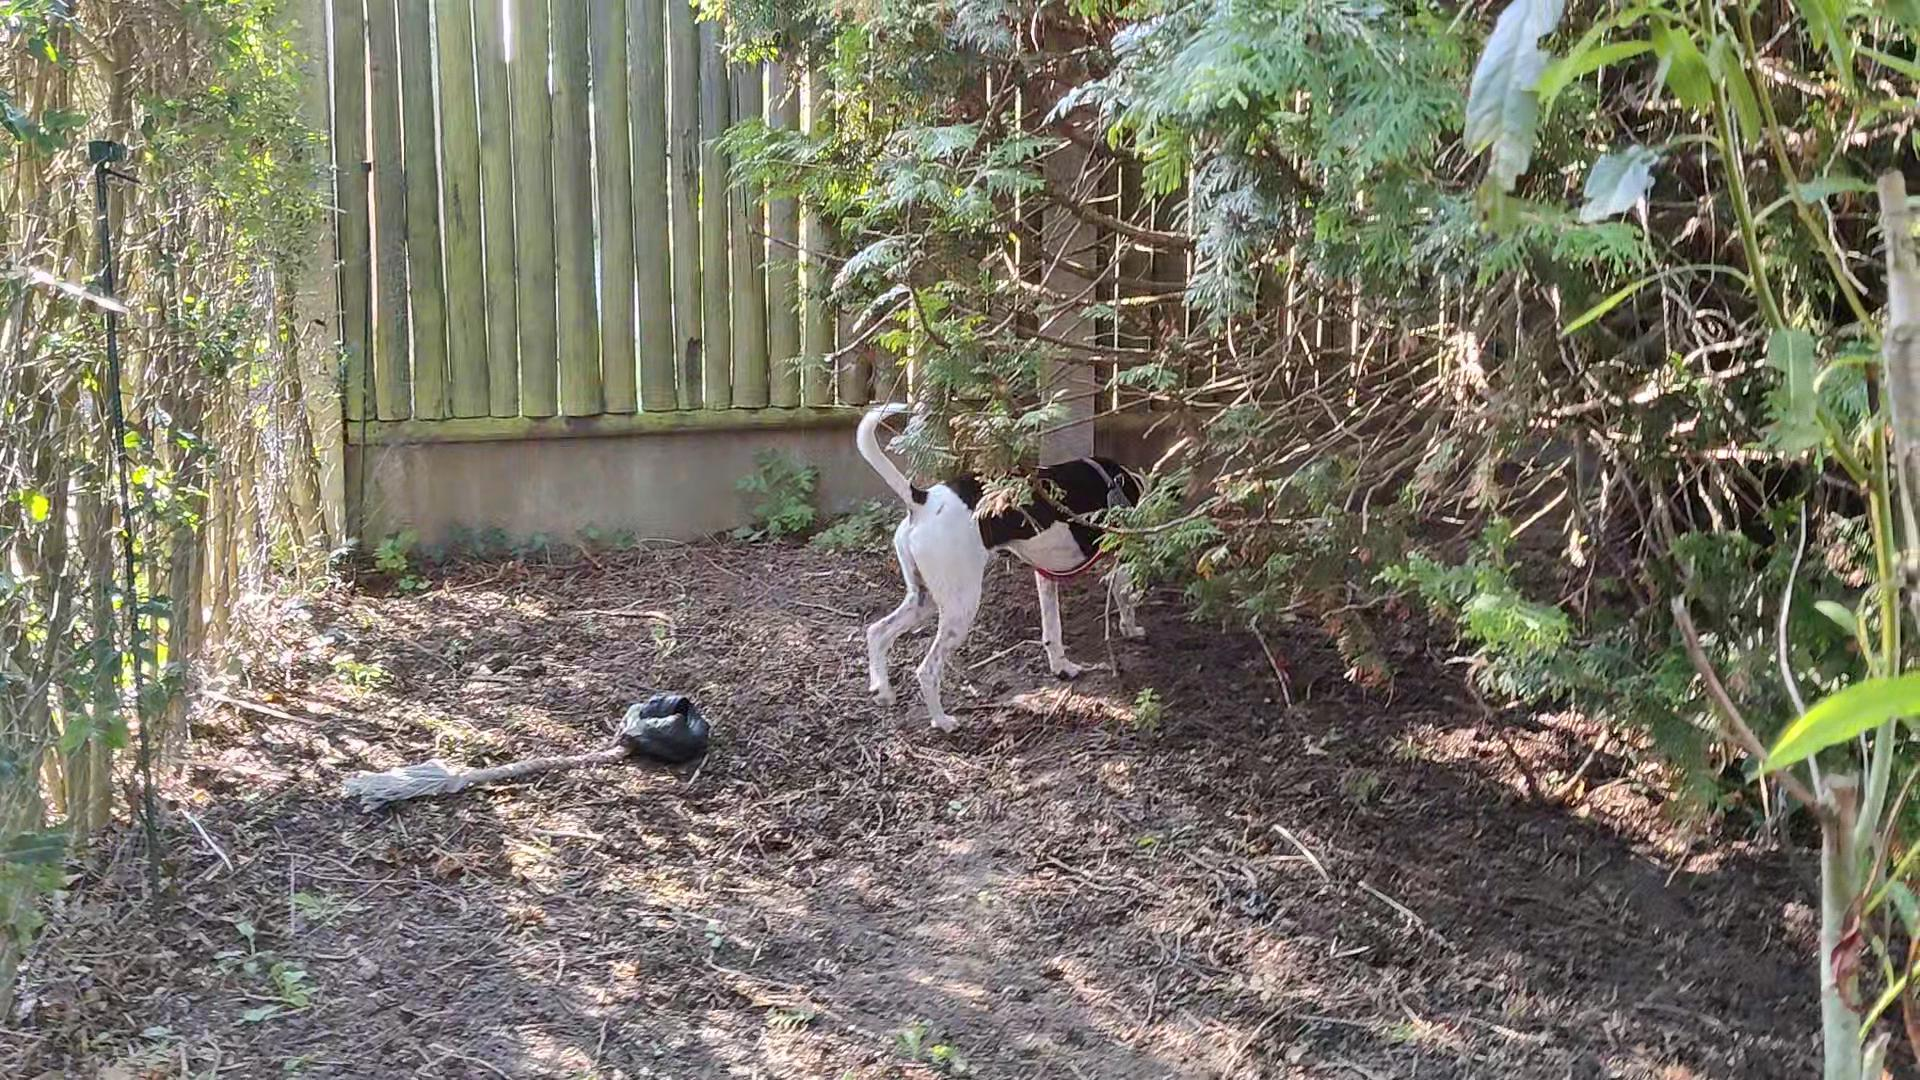Dog: (820, 386, 1207, 742)
